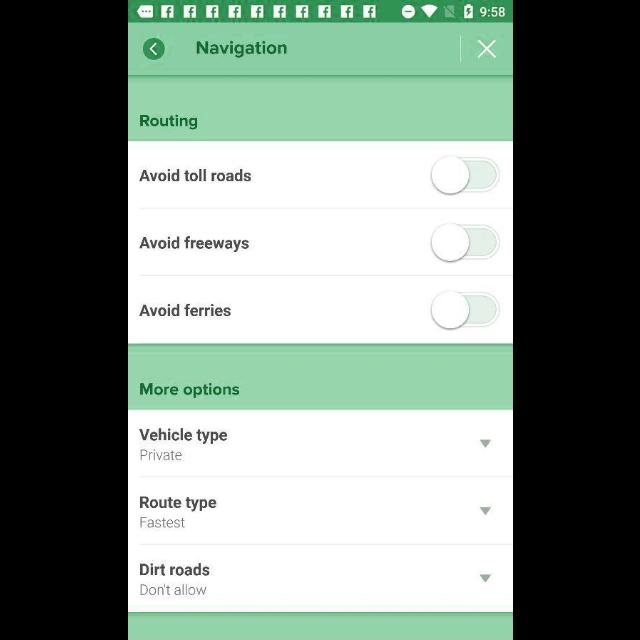icon: (142, 39, 164, 61), (476, 40, 496, 60), (479, 438, 491, 448), (479, 574, 491, 582), (478, 507, 490, 515)
switch: (430, 290, 500, 330), (430, 223, 500, 263), (430, 157, 500, 196)
text: (140, 235, 248, 252), (140, 383, 238, 399), (197, 42, 287, 58), (139, 428, 227, 444), (139, 170, 251, 182), (138, 304, 230, 318), (140, 496, 217, 512), (140, 562, 210, 576), (140, 114, 197, 130), (140, 583, 207, 595), (140, 448, 182, 460), (140, 518, 186, 528)
toolbar: (128, 24, 512, 76)
uppertaskbar: (128, 1, 512, 23)
